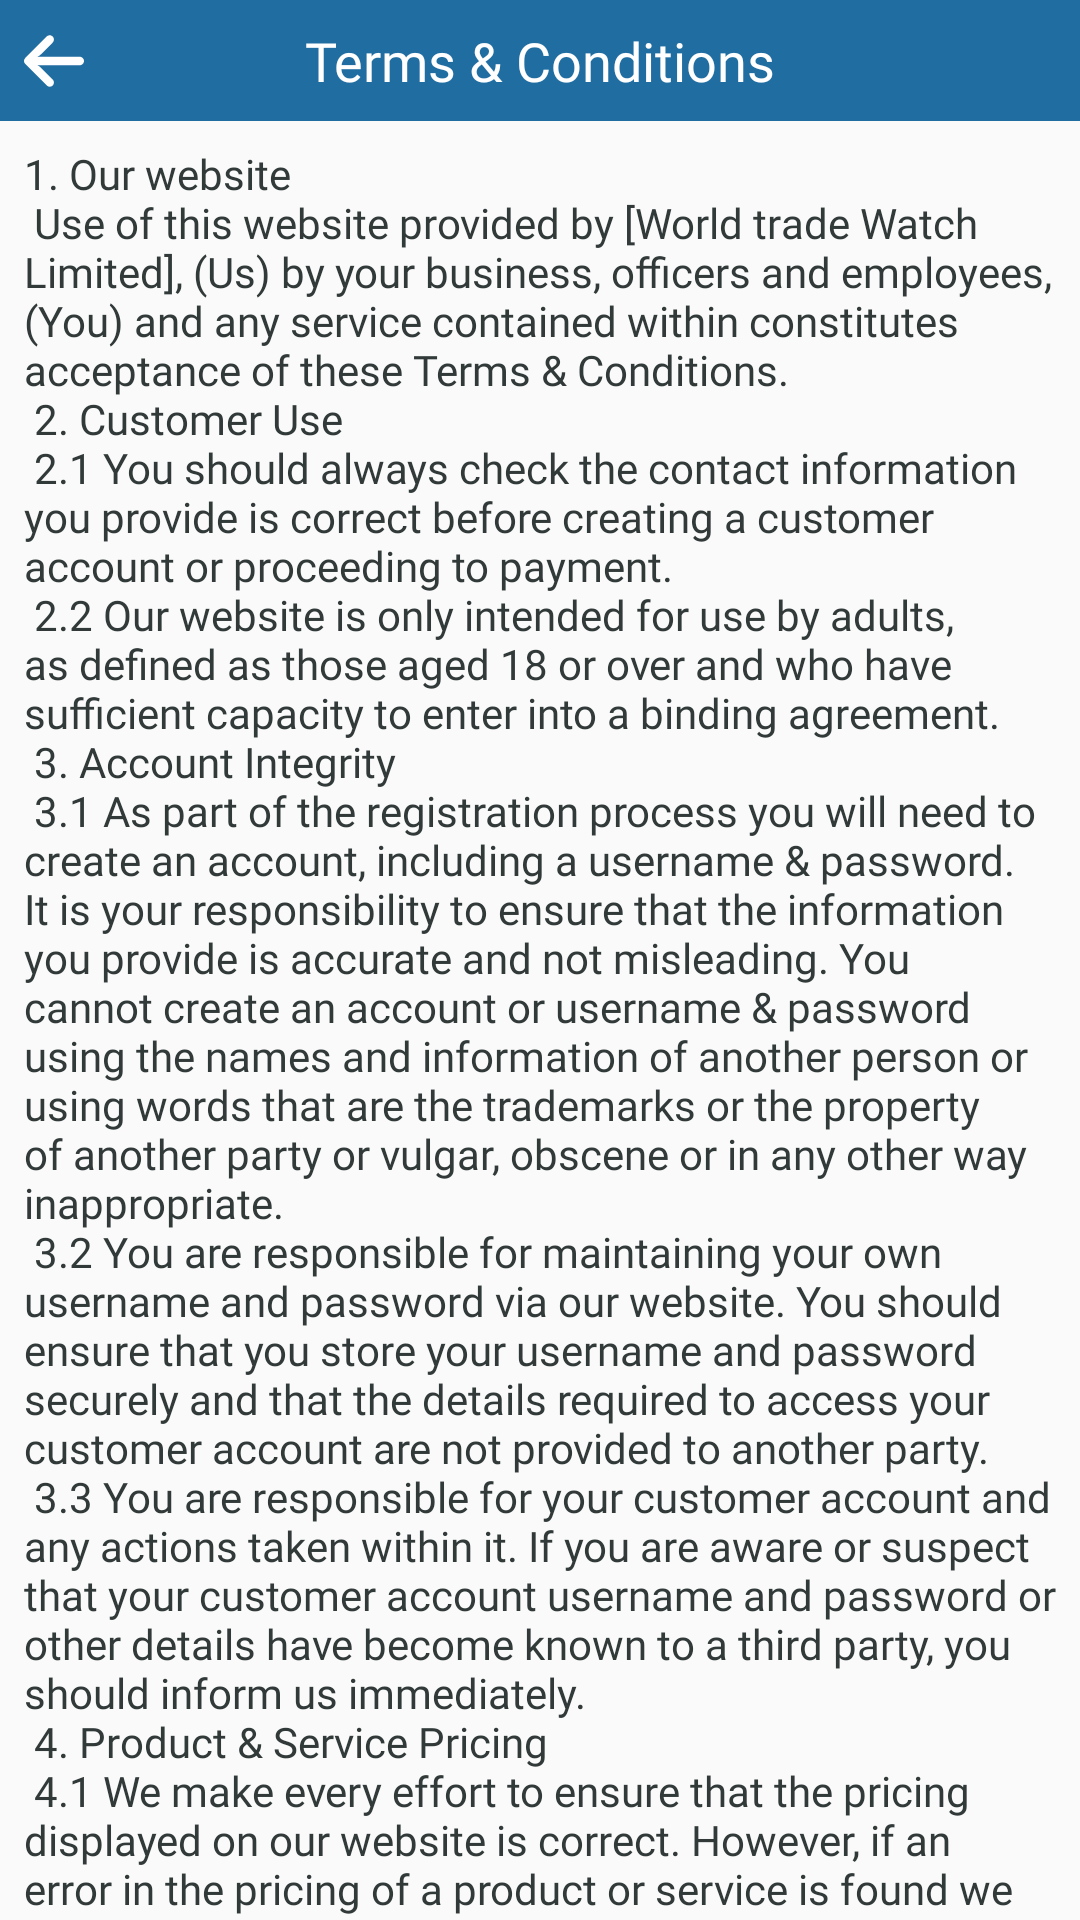

Icons on this 1080w x 1920h Android screen, each with the point to tap as [x,y]:
back: [54,61]
